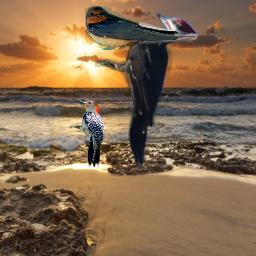Swallow: (83, 4, 198, 50)
Woodpecker: (95, 12, 200, 168), (69, 100, 104, 167)
